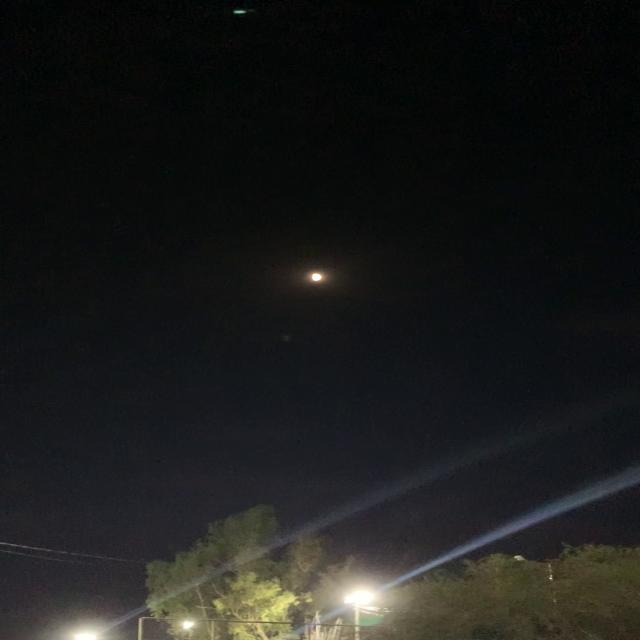moon: (296, 264, 342, 294)
